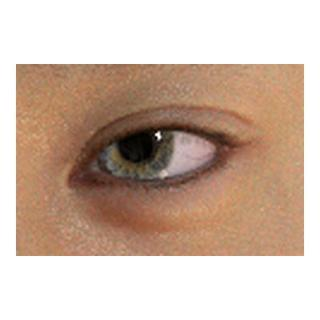pupil: (118, 127, 153, 162)
